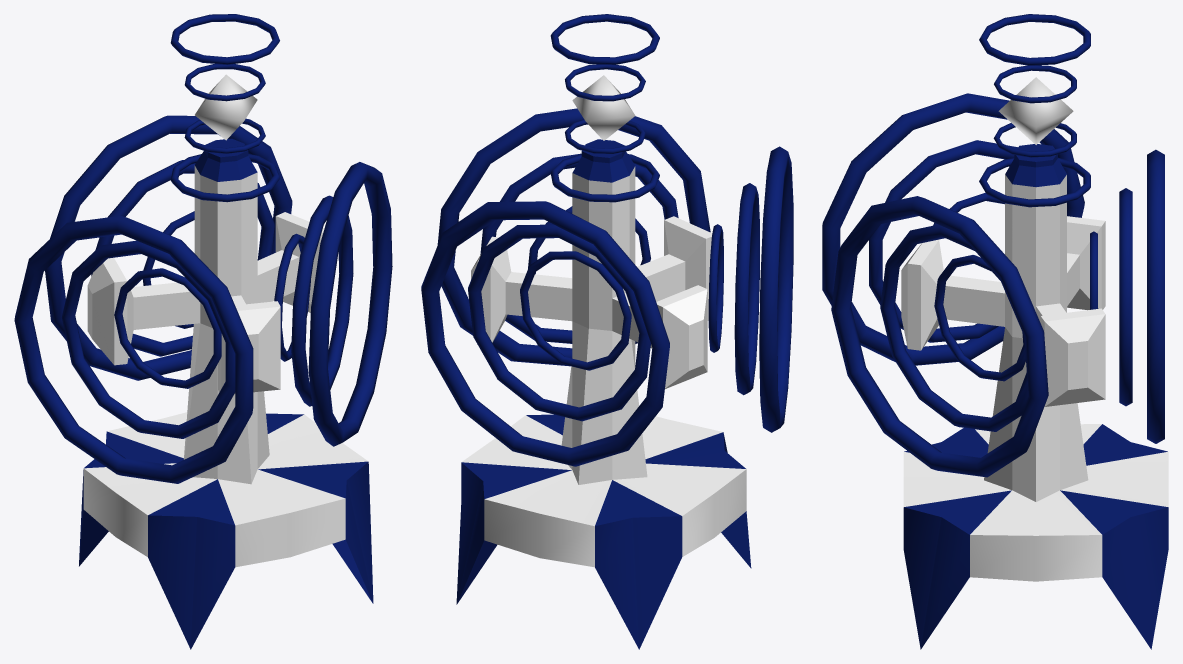
The model's file is TeslTowerUpgraded.fbx.
The picture shows the model from 3 angles, left to right: view 1: azimuth 30°, elevation 25°; view 2: azimuth 150°, elevation 25°; view 3: azimuth 270°, elevation 25°; orthographic projection. The views are drawn at different scales.
Visible parts, largest first — view 1: Box001, Torus007, Torus004, Torus001, Torus008, Torus005, Torus002, Torus009, Sphere001, Torus013, Torus010, Torus006 (+2 smaller); view 2: Box001, Torus001, Torus004, Torus007, Torus002, Torus008, Torus003, Torus005, Sphere001, Torus013, Torus009, Torus010 (+3 smaller); view 3: Box001, Torus004, Torus007, Torus005, Torus001, Torus008, Torus002, Sphere001, Torus006, Torus013, Torus010, Torus012 (+2 smaller).
Part boxes in pixels (x1,y1,x2,y2): Box001: [79, 138, 373, 649]; Torus007: [14, 215, 253, 483]; Torus004: [308, 162, 392, 446]; Torus001: [45, 115, 292, 380]; Torus008: [62, 240, 235, 438]; Torus005: [291, 195, 353, 406]; Torus002: [91, 160, 274, 356]; Torus009: [114, 268, 221, 388]; Sphere001: [195, 74, 257, 140]; Torus013: [170, 14, 279, 64]; Torus010: [170, 154, 279, 202]; Torus006: [274, 233, 310, 361]; Box001: [456, 139, 751, 649]; Torus001: [421, 201, 669, 466]; Torus004: [437, 108, 710, 366]; Torus007: [759, 146, 793, 432]; Torus002: [468, 224, 650, 421]; Torus008: [734, 183, 759, 395]; Torus003: [520, 251, 631, 370]; Torus005: [480, 153, 678, 343]; Sphere001: [572, 75, 635, 140]; Torus013: [550, 14, 659, 64]; Torus009: [708, 224, 723, 352]; Torus010: [550, 154, 659, 202]; Box001: [901, 144, 1168, 649]; Torus004: [831, 196, 1048, 477]; Torus007: [822, 93, 1084, 365]; Torus005: [880, 224, 1028, 431]; Torus001: [1147, 149, 1164, 443]; Torus008: [869, 140, 1017, 342]; Torus002: [1119, 188, 1132, 406]; Sphere001: [998, 77, 1073, 144]; Torus006: [934, 255, 1025, 381]; Torus013: [979, 14, 1090, 65]; Torus010: [979, 157, 1090, 207]; Torus012: [994, 65, 1076, 103].
Bounding box in the file's own units: 12.17 × 17.87 × 9.87.
